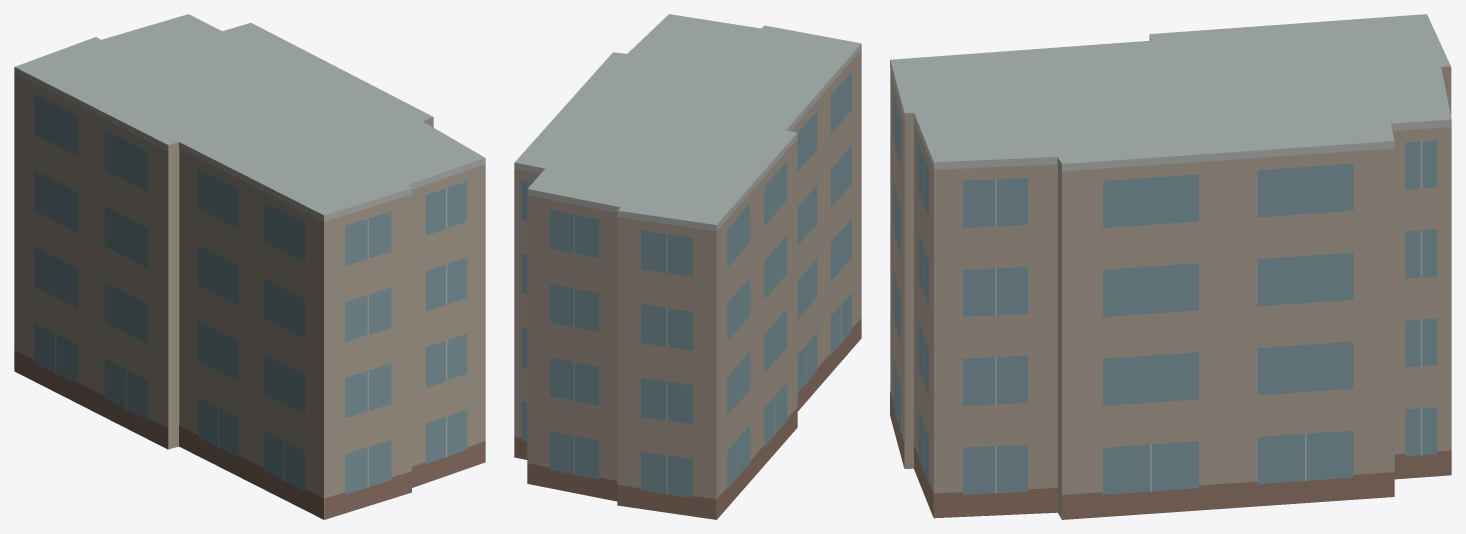
The model's file is survey-upis-32951293.glb.
The picture shows the model from 3 angles, left to right: view 1: azimuth 30°, elevation 25°; view 2: azimuth 150°, elevation 25°; view 3: azimuth 270°, elevation 25°; orthographic projection. The views are drawn at different scales.
Visible parts, largest first — view 1: survey-upis-32951293.tmp; view 2: survey-upis-32951293.tmp; view 3: survey-upis-32951293.tmp.
Boxes of the visible parts, x1,y1,x2,y2 form: survey-upis-32951293.tmp: (14,14,485,519); survey-upis-32951293.tmp: (514,14,861,519); survey-upis-32951293.tmp: (890,14,1451,519).
Size of the model in its own units: 10.59 by 11.7 by 16.75.
